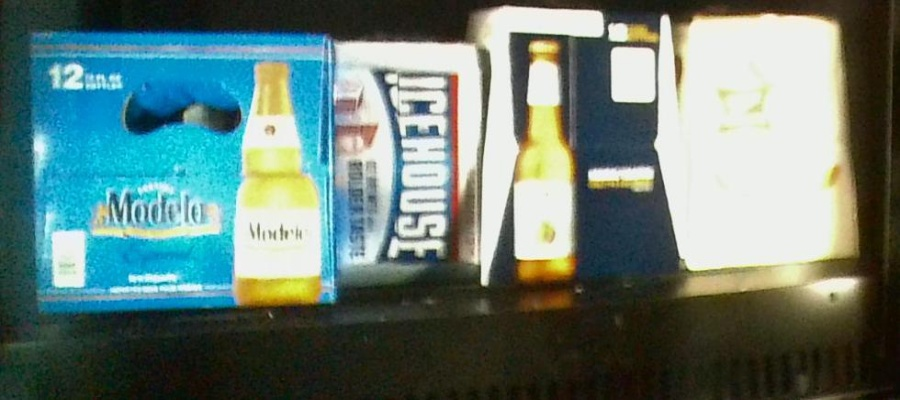bottle: (11, 29, 335, 307), (488, 5, 679, 281), (677, 15, 861, 268), (334, 38, 479, 295)
